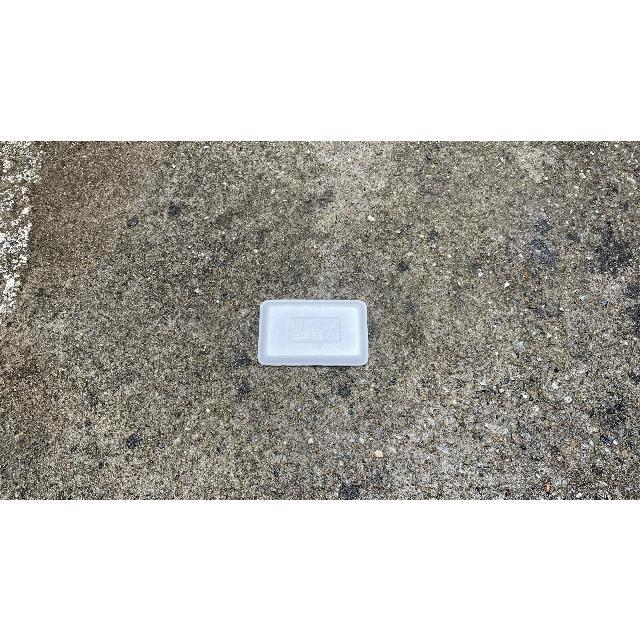Plastico descartable: (257, 300, 369, 369)
